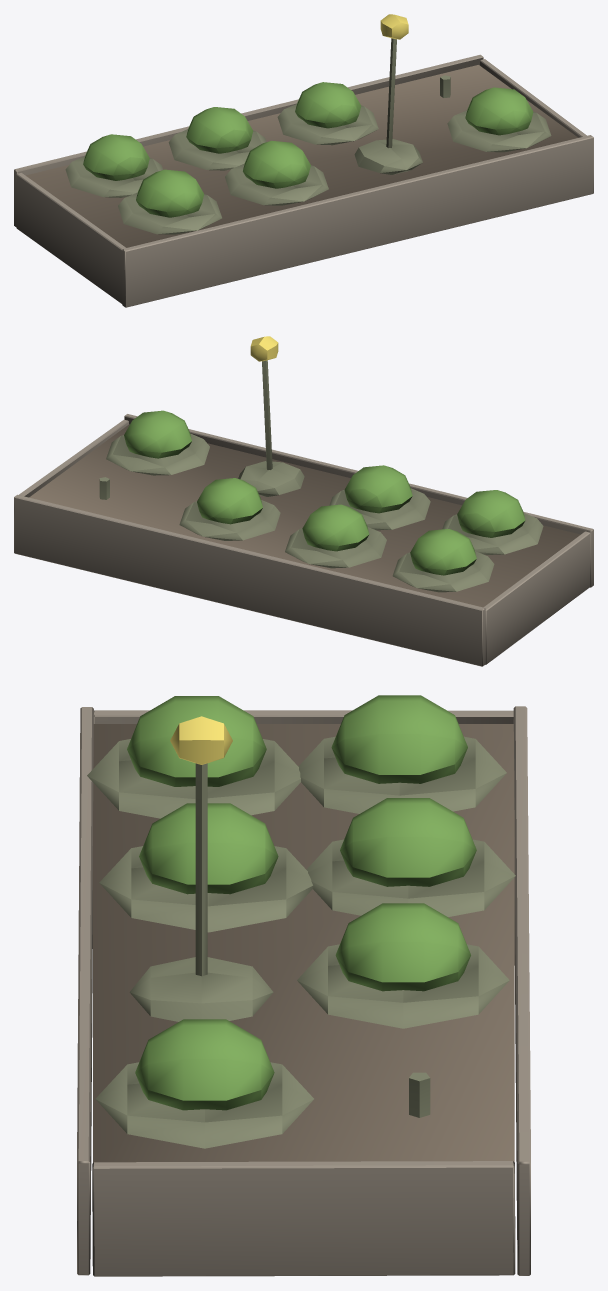
Rendered from garden_bed_cabbage.glb.
The picture shows the model from 3 angles, top to bottom: view 1: azimuth 30°, elevation 25°; view 2: azimuth 150°, elevation 25°; view 3: azimuth 270°, elevation 25°; orthographic projection. The views are drawn at different scales.
Parts seen in each view (by area): view 1: static; view 2: static; view 3: static.
Boxes of the visible parts, x1,y1,x2,y2 form: static: (14, 14, 593, 307); static: (14, 336, 593, 666); static: (77, 695, 530, 1276).
Bounding box in the file's own units: 2.41 × 0.9726 × 1.01.
